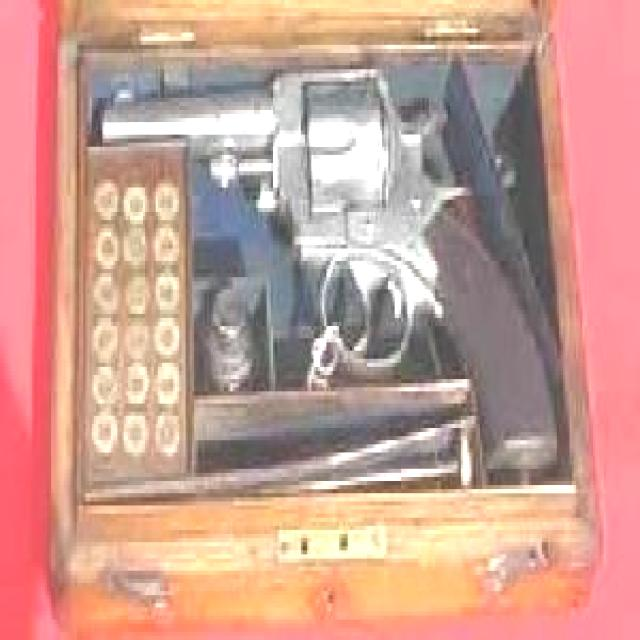pistol: (98, 53, 565, 469)
